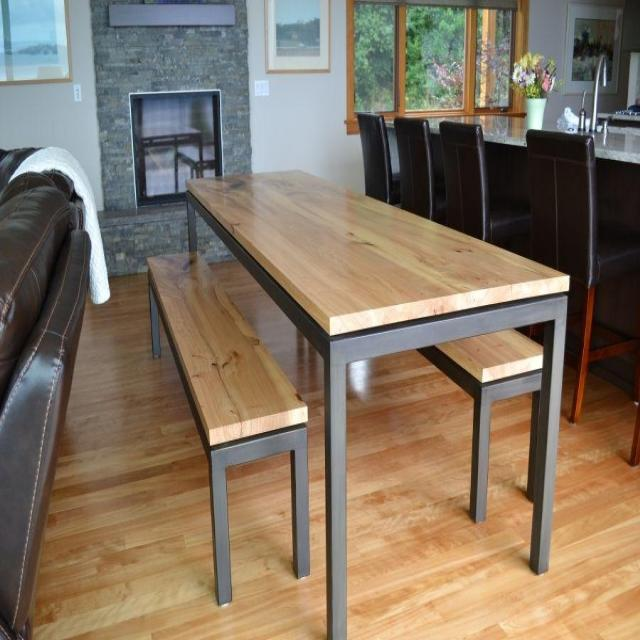table: (110, 113, 592, 635)
